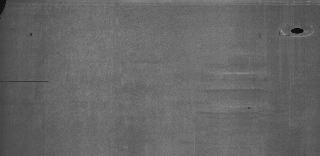punching hole: (288, 27, 306, 35)
scratches: (0, 78, 56, 86)
